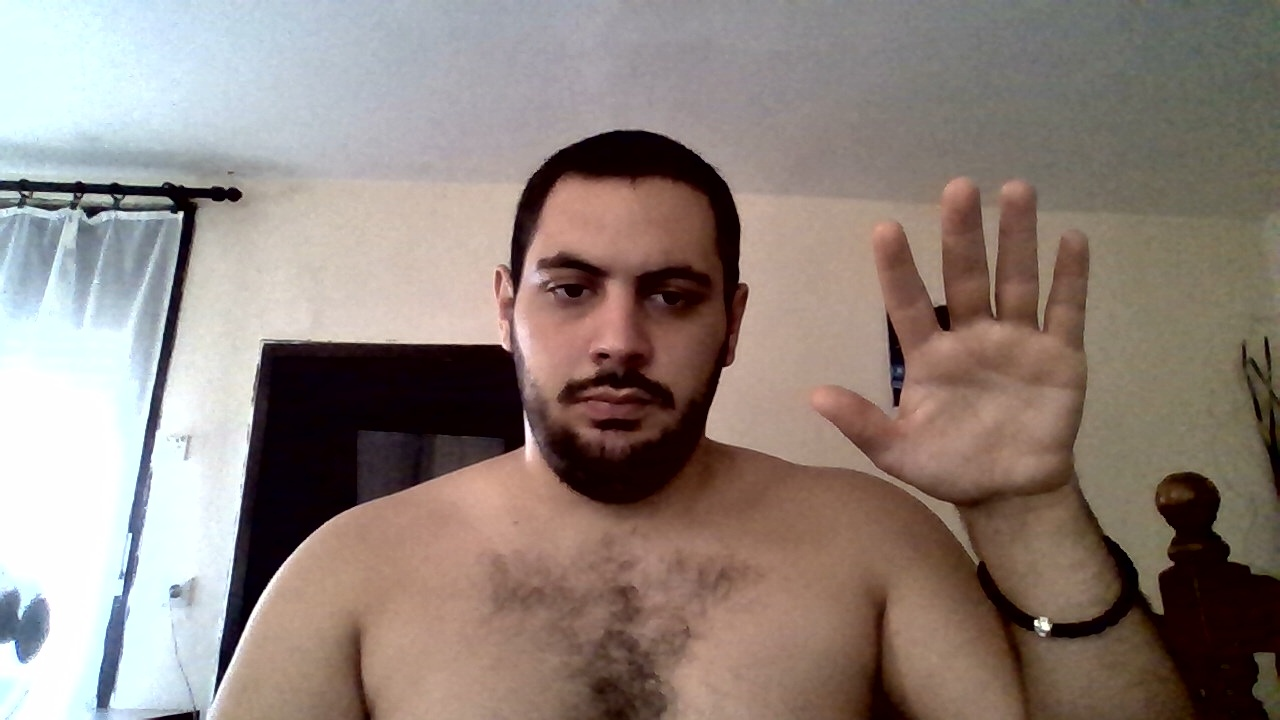palm: (813, 173, 1090, 497)
